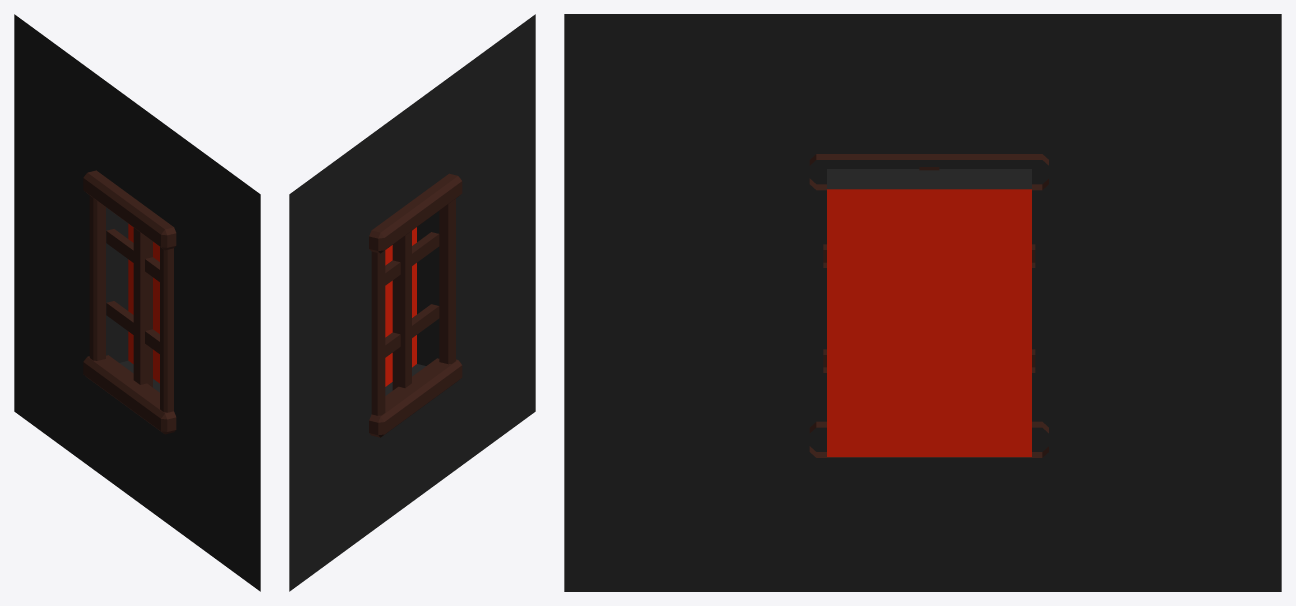
File: standard_window_3.FBX
The picture shows the model from 3 angles, left to right: view 1: azimuth 30°, elevation 25°; view 2: azimuth 150°, elevation 25°; view 3: azimuth 270°, elevation 25°; orthographic projection. The views are drawn at different scales.
Visible parts, largest first — view 1: standard_window_3; view 2: standard_window_3; view 3: standard_window_3.
Part boxes in pixels (x1=…): standard_window_3: x1=14, y1=14, x2=260, y2=591; standard_window_3: x1=289, y1=14, x2=535, y2=591; standard_window_3: x1=564, y1=14, x2=1281, y2=591.
Size of the model in its own units: 43.81 by 400 by 450.
